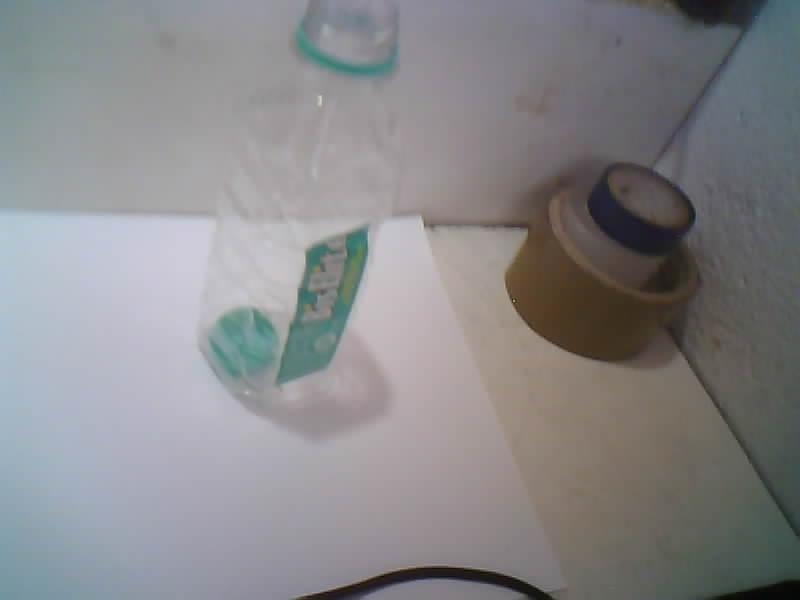non-biodegradable: (199, 0, 398, 401)
